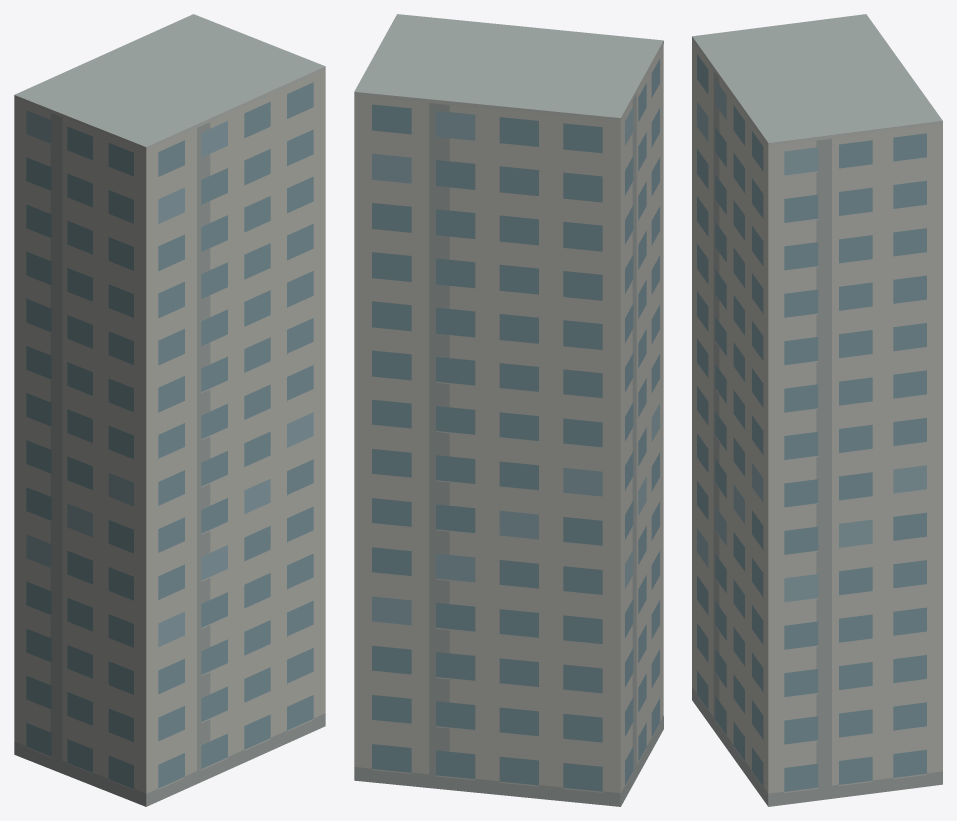
Rendered from residential-30bb66ac-53f7-44f3-acae-1ae57fe08844.glb.
3 renders of one model, left to right at view 1: azimuth 30°, elevation 25°; view 2: azimuth 150°, elevation 25°; view 3: azimuth 270°, elevation 25°, orthographic. The views are drawn at different scales.
Parts seen in each view (by area): view 1: residential-30bb66ac-53f7-44f3-acae-1ae57fe08844.tmp; view 2: residential-30bb66ac-53f7-44f3-acae-1ae57fe08844.tmp; view 3: residential-30bb66ac-53f7-44f3-acae-1ae57fe08844.tmp.
Boxes of the visible parts, <box> form: residential-30bb66ac-53f7-44f3-acae-1ae57fe08844.tmp: <box>14,14,325,806</box>; residential-30bb66ac-53f7-44f3-acae-1ae57fe08844.tmp: <box>354,14,663,806</box>; residential-30bb66ac-53f7-44f3-acae-1ae57fe08844.tmp: <box>692,14,942,806</box>.
Size of the model in its own units: 18.35 by 44 by 15.07.
